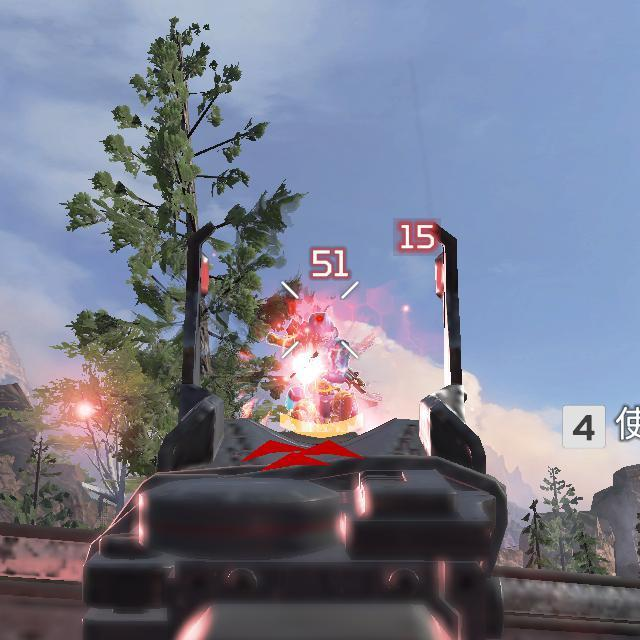avatar: (264, 309, 368, 424)
